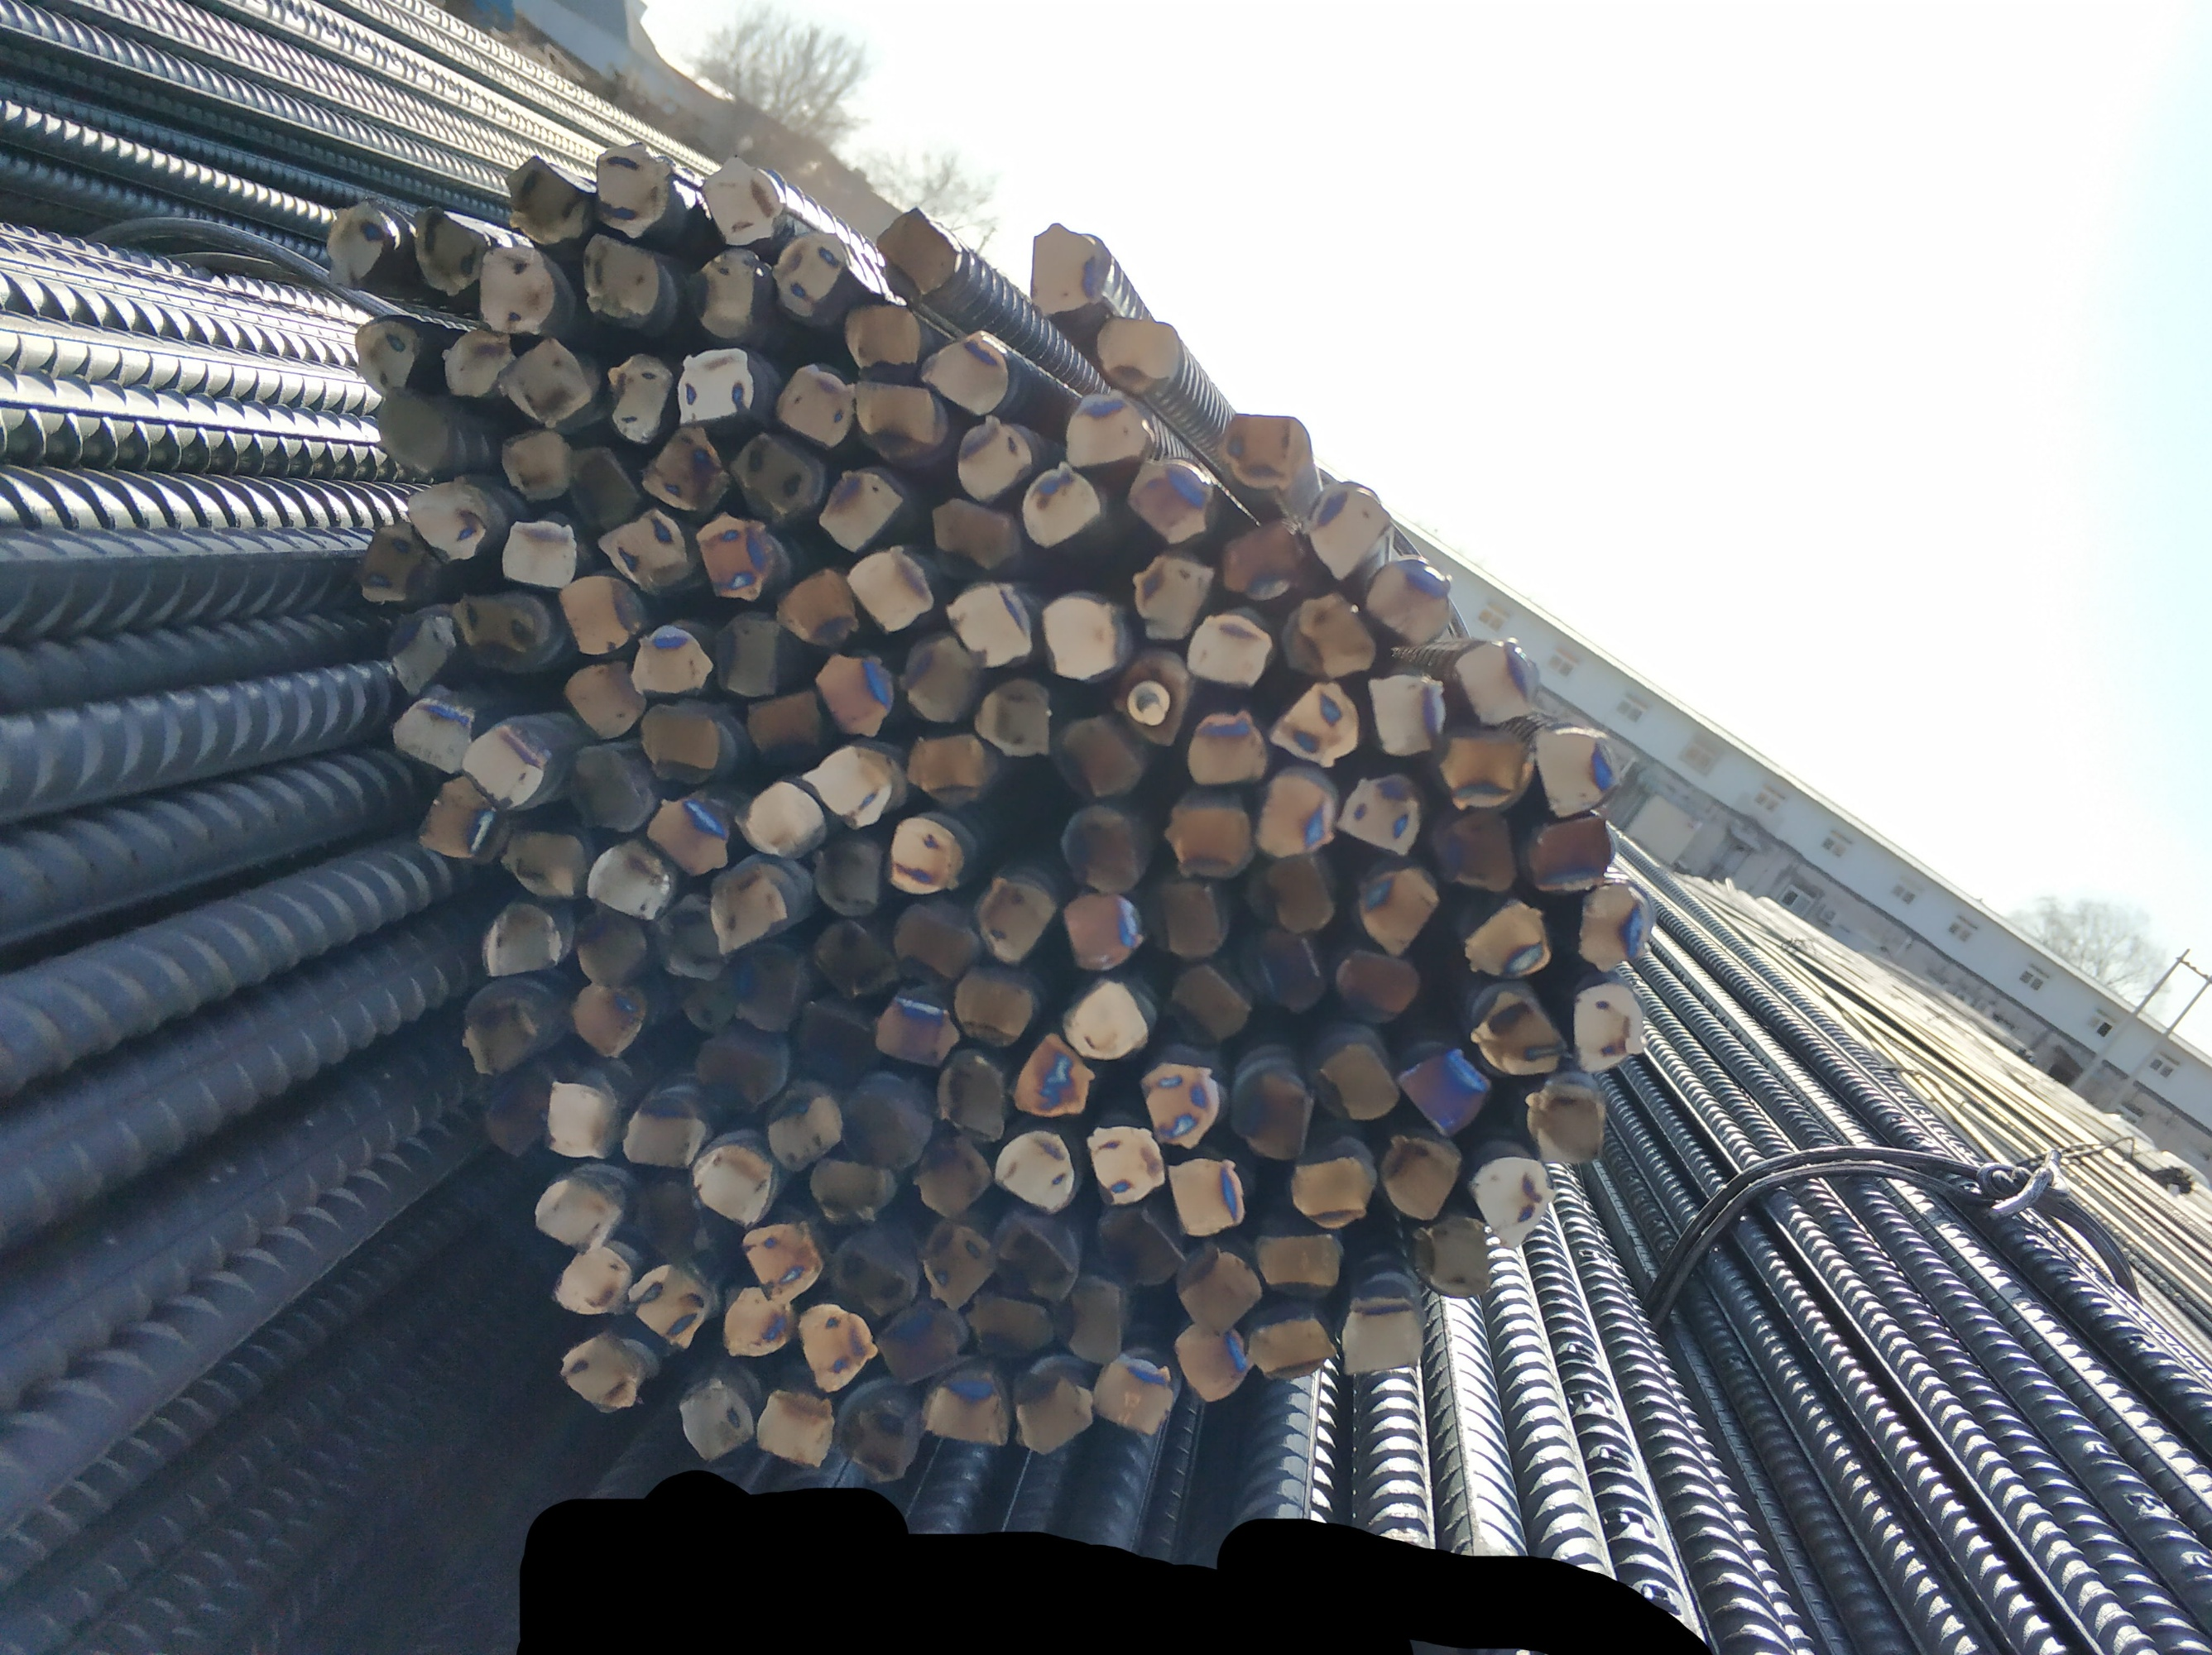rebar: (1109, 640, 1194, 749), (695, 1026, 792, 1120), (1366, 551, 1460, 648), (839, 1078, 935, 1172), (827, 1222, 923, 1316), (1395, 1045, 1489, 1140), (1470, 987, 1567, 1080), (1468, 1153, 1555, 1255), (480, 1055, 565, 1160), (1432, 725, 1536, 810), (500, 332, 593, 428), (730, 429, 822, 525), (589, 139, 674, 242), (563, 741, 655, 834), (1050, 711, 1143, 803), (1354, 862, 1446, 956), (1268, 680, 1364, 770), (1533, 725, 1623, 821), (801, 739, 898, 827), (1307, 476, 1392, 577), (598, 502, 690, 595), (697, 151, 784, 249), (1025, 219, 1112, 316), (1234, 1060, 1317, 1161), (874, 202, 956, 304), (846, 542, 937, 635), (1453, 635, 1543, 727), (1128, 546, 1216, 640), (1281, 589, 1374, 678), (575, 231, 662, 327), (874, 1300, 971, 1386), (1215, 407, 1314, 490), (944, 579, 1034, 669), (1428, 803, 1519, 894), (462, 718, 551, 810), (992, 1215, 1081, 1307), (1175, 1241, 1263, 1333), (407, 471, 493, 565), (1010, 1361, 1095, 1457), (622, 1264, 712, 1353), (921, 1363, 1011, 1452), (855, 374, 944, 464), (919, 329, 1010, 417), (471, 245, 558, 337), (499, 155, 591, 242), (645, 788, 732, 880), (1519, 1078, 1606, 1170), (1126, 455, 1211, 549), (794, 1302, 878, 1398), (1242, 852, 1340, 934), (643, 424, 732, 513), (1143, 873, 1232, 961), (1241, 925, 1329, 1014), (556, 572, 646, 659), (817, 466, 902, 558), (813, 648, 898, 741), (1255, 770, 1340, 862), (1136, 1057, 1222, 1149), (1307, 1038, 1399, 1123), (1041, 589, 1123, 685), (1573, 880, 1654, 975), (586, 836, 672, 925), (1164, 963, 1253, 1050), (1096, 1201, 1185, 1288), (794, 996, 879, 1087), (893, 897, 983, 982), (992, 1127, 1077, 1217), (1338, 1295, 1428, 1380), (1524, 814, 1618, 895), (900, 633, 980, 728), (686, 243, 763, 342), (1222, 516, 1308, 603), (558, 655, 646, 741), (419, 774, 504, 862), (558, 1328, 646, 1413), (1463, 895, 1552, 980), (532, 1172, 622, 1255), (1380, 1132, 1463, 1222), (407, 203, 488, 296), (975, 873, 1056, 965), (1569, 979, 1646, 1076), (351, 520, 438, 605), (692, 1139, 777, 1226), (811, 913, 897, 1000), (1187, 603, 1274, 688), (639, 699, 723, 788), (1364, 669, 1447, 758), (1246, 1304, 1338, 1384), (372, 384, 450, 478), (772, 229, 850, 323), (1051, 1269, 1128, 1365), (629, 619, 716, 702), (391, 692, 474, 779), (737, 1219, 824, 1302), (1095, 309, 1182, 393), (1166, 798, 1253, 881), (1011, 1034, 1095, 1121), (1091, 1349, 1175, 1436), (707, 867, 789, 956), (1333, 944, 1421, 1026), (1086, 1120, 1168, 1208), (735, 777, 825, 857), (1022, 459, 1102, 549), (697, 508, 773, 602), (919, 1215, 996, 1309), (926, 492, 1020, 568), (732, 939, 806, 1034), (777, 563, 860, 648), (775, 362, 855, 450), (1062, 805, 1142, 894), (1411, 1212, 1491, 1300), (565, 443, 643, 534), (766, 1085, 844, 1175), (1060, 980, 1150, 1059), (836, 1391, 912, 1483), (904, 728, 989, 810), (678, 1377, 758, 1464), (874, 989, 961, 1069), (1065, 393, 1152, 473), (448, 593, 537, 671), (631, 1175, 709, 1264), (954, 414, 1032, 502), (1168, 1156, 1249, 1240), (843, 297, 923, 382), (568, 977, 648, 1062), (1171, 1318, 1251, 1403), (756, 1384, 834, 1471), (886, 812, 964, 899), (747, 687, 825, 774), (937, 1048, 1008, 1142), (676, 344, 758, 426), (970, 675, 1051, 756), (1341, 774, 1423, 855), (462, 994, 540, 1080), (540, 1080, 619, 1165), (950, 968, 1036, 1047), (1289, 1153, 1374, 1231), (1255, 1227, 1343, 1302), (711, 608, 784, 699), (964, 1288, 1055, 1361), (605, 349, 674, 443), (480, 901, 563, 979), (622, 1097, 709, 1172), (660, 892, 732, 982), (387, 608, 457, 701), (1187, 704, 1268, 782), (914, 1132, 990, 1215), (1062, 894, 1145, 970), (504, 827, 589, 902), (806, 1156, 895, 1227), (810, 833, 886, 914), (323, 196, 391, 289), (500, 421, 575, 504), (721, 1279, 796, 1363), (495, 516, 580, 589), (572, 911, 650, 989), (551, 1241, 632, 1316), (349, 313, 422, 396), (443, 323, 518, 402), (669, 963, 740, 1040)
